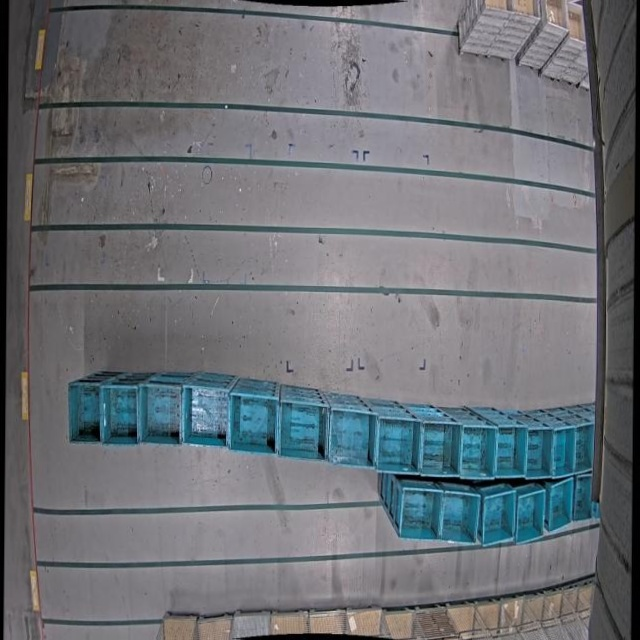Box: (325, 403, 377, 468), (228, 388, 279, 453), (277, 396, 327, 461), (395, 478, 443, 543), (374, 409, 420, 474), (138, 379, 183, 444), (185, 384, 230, 445), (419, 416, 458, 479), (458, 420, 498, 481), (103, 382, 141, 445), (68, 380, 105, 443), (513, 484, 549, 543), (443, 491, 480, 547), (483, 490, 516, 551), (496, 424, 526, 479), (524, 423, 553, 479), (568, 472, 598, 526), (550, 477, 573, 534), (572, 422, 596, 476), (553, 427, 575, 477), (565, 2, 587, 44), (544, 2, 570, 32), (513, 2, 540, 19)
